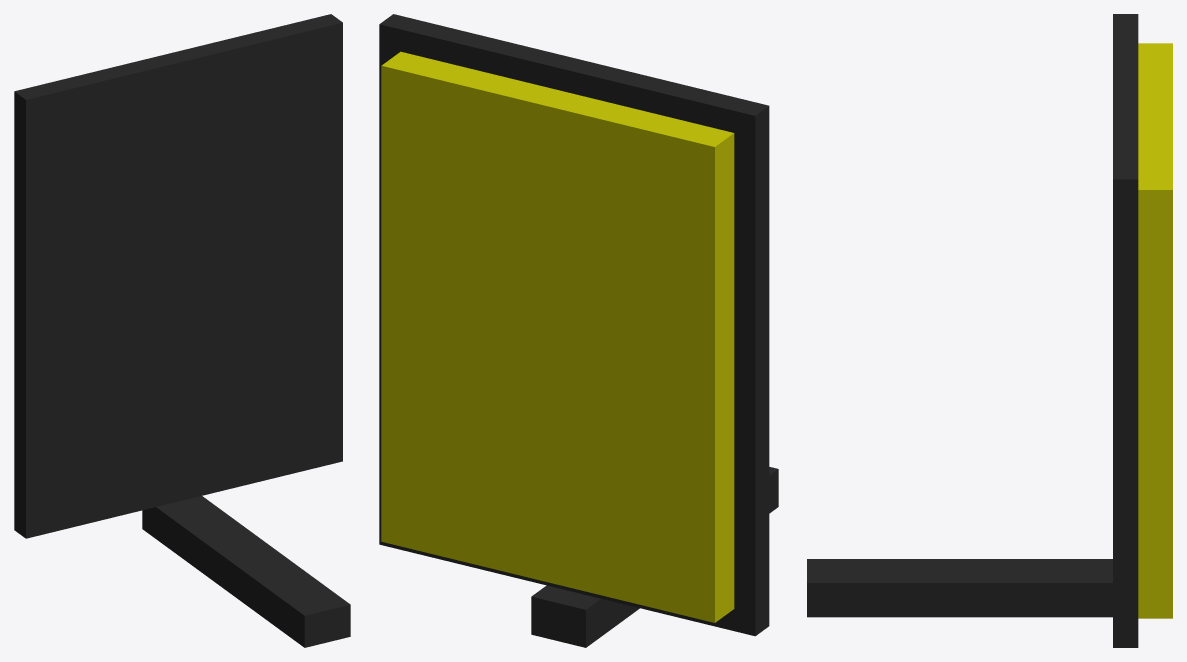
Rendered from boss_bastion_plate.obj.
3 views of the same model, side by side, from view 1: azimuth 30°, elevation 25°; view 2: azimuth 150°, elevation 25°; view 3: azimuth 270°, elevation 25° (orthographic). The views are drawn at different scales.
Parts seen in each view (by area): view 1: frame; view 2: plate, frame; view 3: frame, plate.
Part boxes in pixels (x1=…): frame: x1=14, y1=14, x2=350, y2=647; plate: x1=381, y1=51, x2=734, y2=622; frame: x1=379, y1=14, x2=778, y2=647; frame: x1=807, y1=14, x2=1138, y2=647; plate: x1=1138, y1=43, x2=1172, y2=618.
Size of the model in its own units: 1.24 by 1.78 by 1.16.
